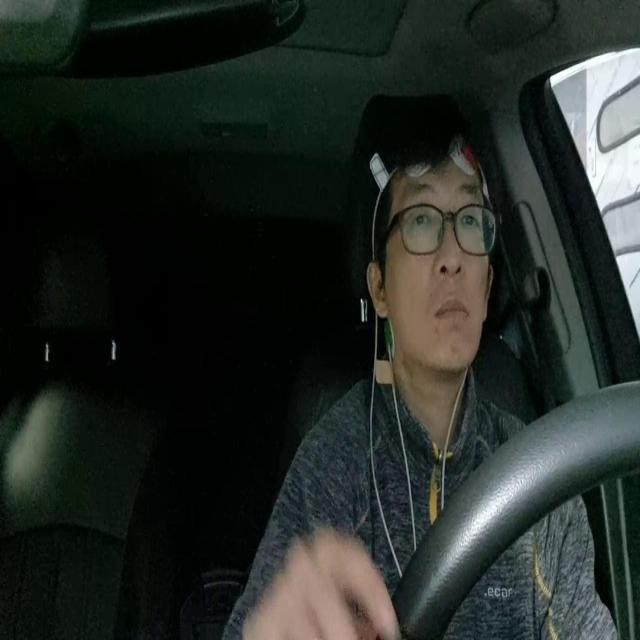Attentive: (365, 108, 495, 376)
